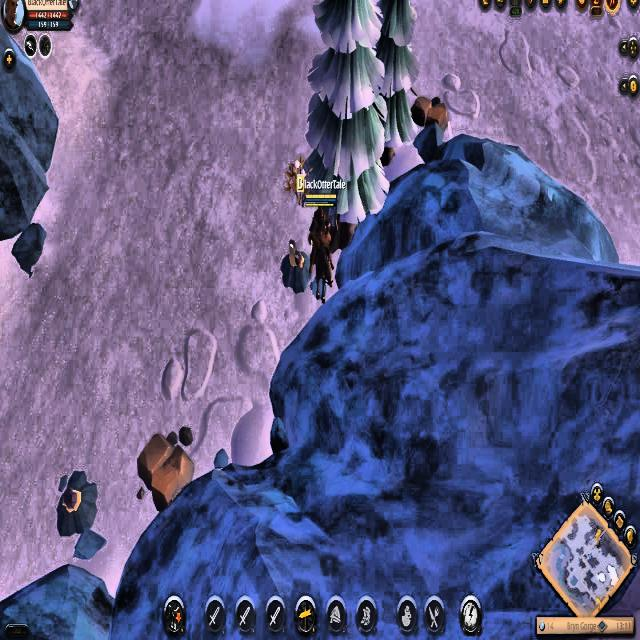copperore: (53, 467, 98, 532), (283, 234, 311, 292)
limestone: (134, 428, 195, 509), (409, 93, 451, 139)
